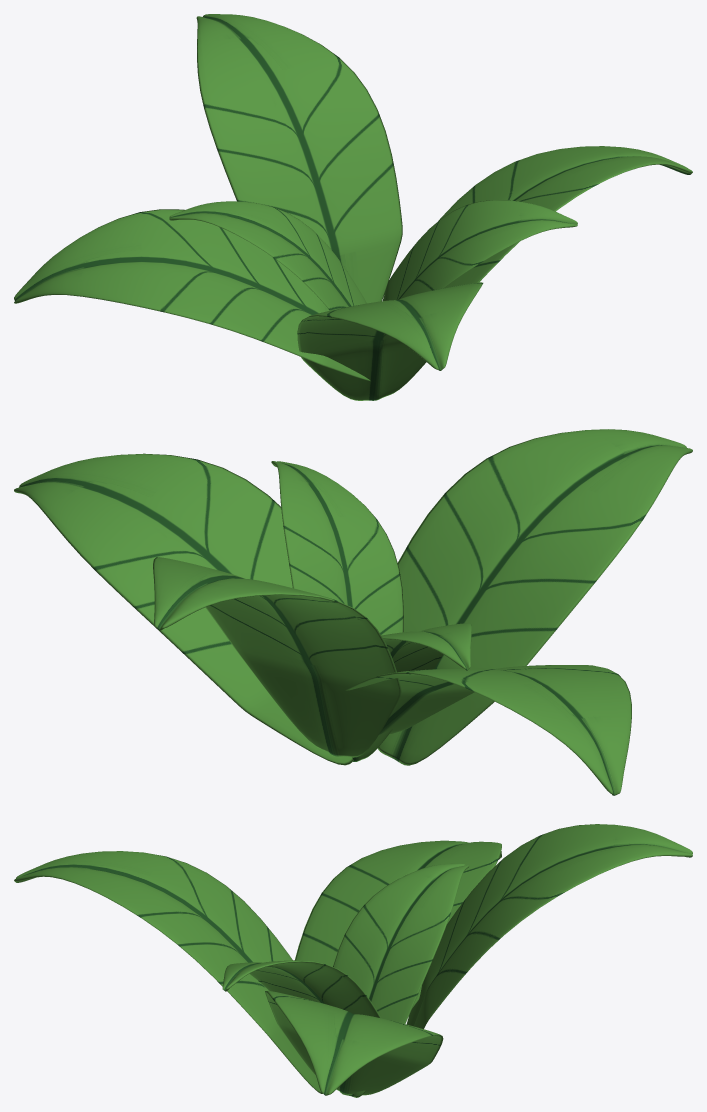
Rendered from Plant1.fbx.
3 renders of one model, top to bottom at view 1: azimuth 30°, elevation 25°; view 2: azimuth 150°, elevation 25°; view 3: azimuth 270°, elevation 25°, orthographic. The views are drawn at different scales.
Visible parts, largest first — view 1: Plane.001, Plane, Plane.002, Plane.005, Plane.003, Plane.004; view 2: Plane.002, Plane.003, Plane.001, Plane, Plane.005, Plane.004; view 3: Plane.002, Plane.001, Plane.004, Plane.003, Plane, Plane.005.
Part boxes in pixels (bbox=[...]): Plane.001: bbox=[196, 14, 402, 303]; Plane: bbox=[14, 209, 370, 381]; Plane.002: bbox=[297, 282, 483, 400]; Plane.005: bbox=[382, 200, 577, 300]; Plane.003: bbox=[438, 146, 692, 287]; Plane.004: bbox=[169, 201, 366, 310]; Plane.002: bbox=[377, 429, 692, 765]; Plane.003: bbox=[14, 453, 353, 765]; Plane.001: bbox=[153, 557, 401, 757]; Plane: bbox=[345, 665, 631, 795]; Plane.005: bbox=[271, 461, 403, 635]; Plane.004: bbox=[352, 623, 471, 761]; Plane.002: bbox=[14, 851, 322, 1093]; Plane.001: bbox=[406, 824, 692, 1028]; Plane.004: bbox=[333, 863, 469, 1097]; Plane.003: bbox=[265, 990, 443, 1095]; Plane: bbox=[295, 840, 501, 1008]; Plane.005: bbox=[222, 960, 380, 1018].
Size of the model in its own units: 436 by 181 by 438.
1 material, 1 textured.
